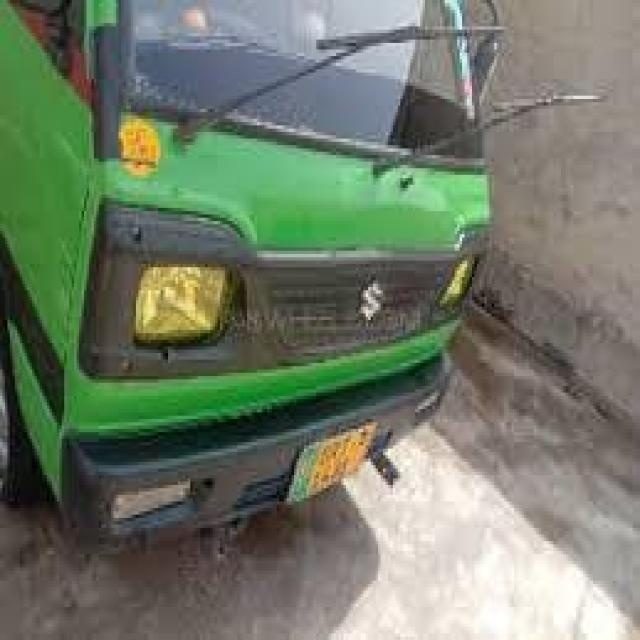Van: (0, 0, 497, 558)
